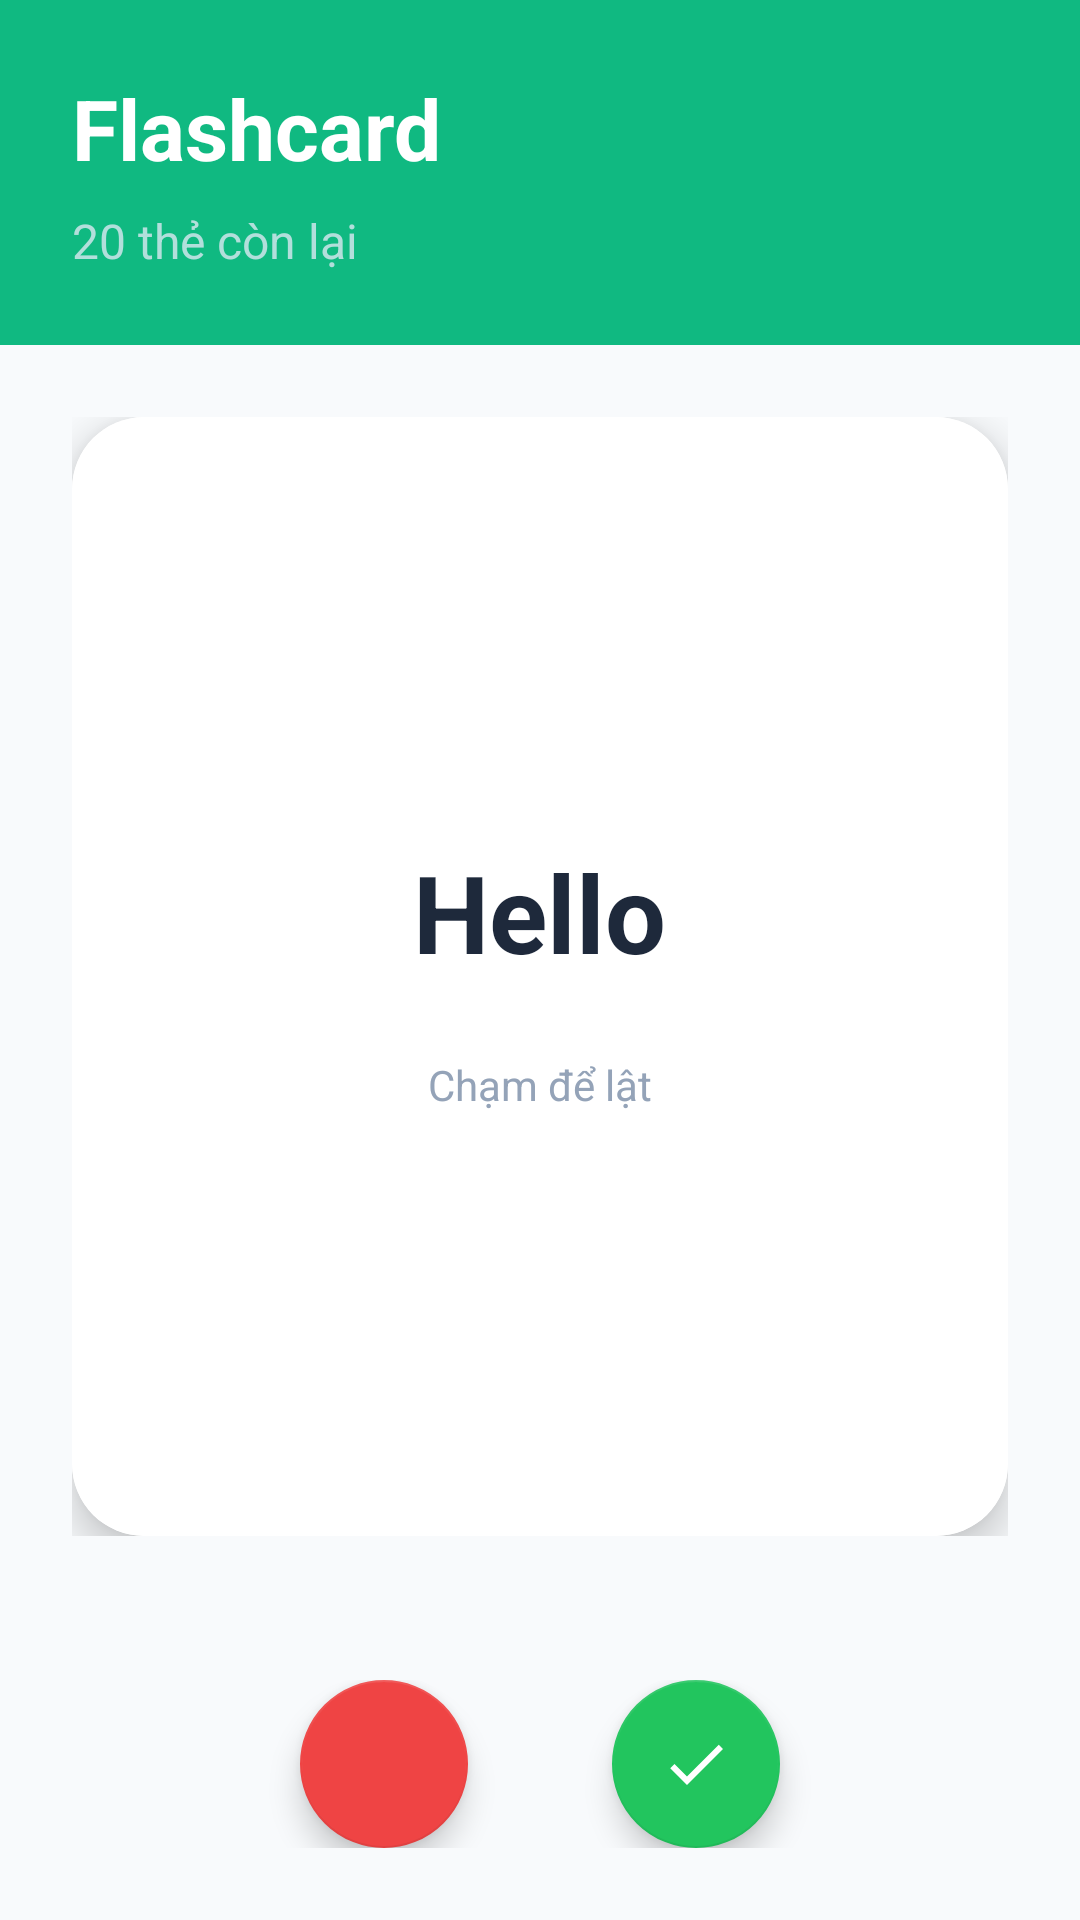

Screen size 1080x1920. Icon name, then its box in pixels as (x1, y1, x2, y2):
Đã nhớ: (612, 1680, 780, 1848)
